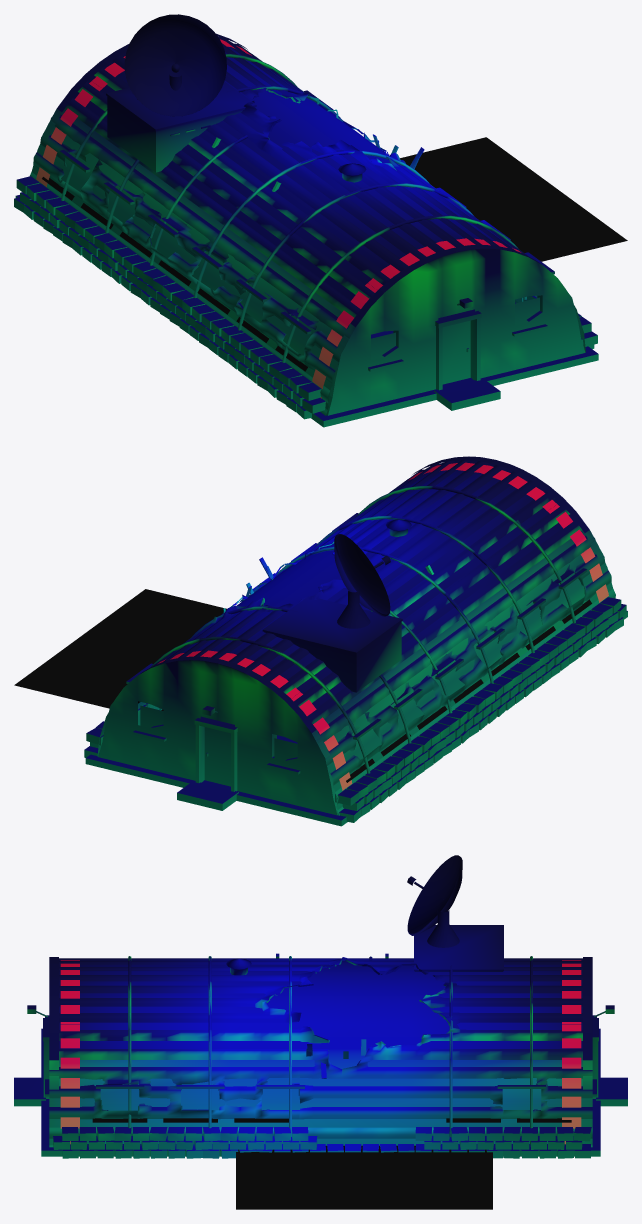
The model's file is quonset2_damaged.glb.
The picture shows the model from 3 angles, top to bottom: view 1: azimuth 30°, elevation 25°; view 2: azimuth 150°, elevation 25°; view 3: azimuth 270°, elevation 25°; orthographic projection. The views are drawn at different scales.
Visible parts, largest first — view 1: lod0; view 2: lod0; view 3: lod0.
Part boxes in pixels (left/top/right/bottom): lod0: left=14, top=14, right=627, bottom=427; lod0: left=14, top=456, right=627, bottom=826; lod0: left=14, top=855, right=627, bottom=1209.
Size of what is drawn, in the model's own units: 13.68 by 7.2 by 19.1.
